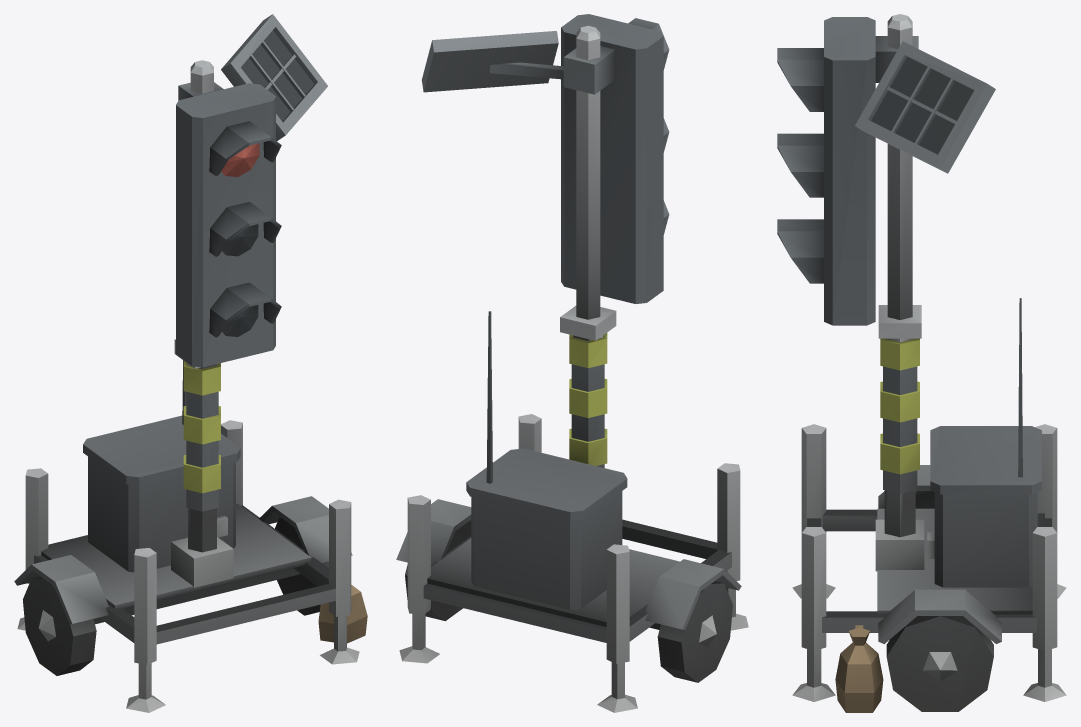
File: lights.glb
The picture shows the model from 3 angles, left to right: view 1: azimuth 30°, elevation 25°; view 2: azimuth 150°, elevation 25°; view 3: azimuth 270°, elevation 25°; orthographic projection. The views are drawn at different scales.
Visible parts, largest first — view 1: lights; view 2: lights; view 3: lights.
Part boxes in pixels (bbox=[...]): lights: bbox=[14, 14, 367, 712]; lights: bbox=[396, 14, 748, 712]; lights: bbox=[777, 14, 1066, 712].
Size of the model in its own units: 1.24 by 2.4 by 1.01.
